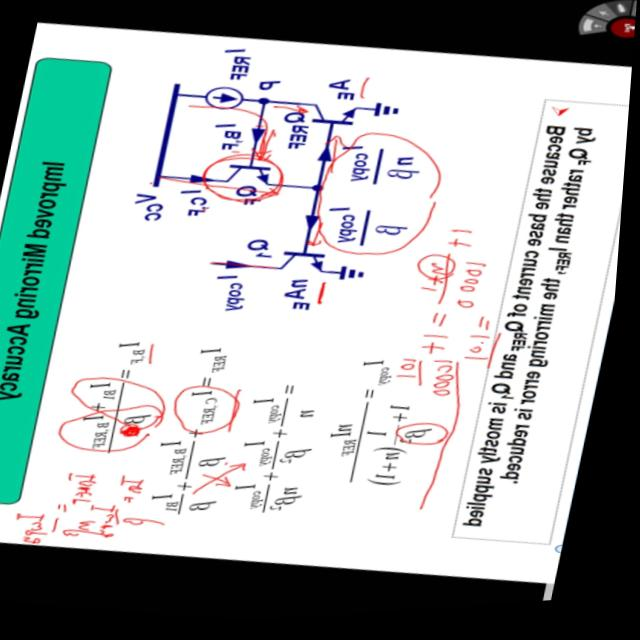panseo: (0, 421, 282, 579), (373, 199, 547, 437)
